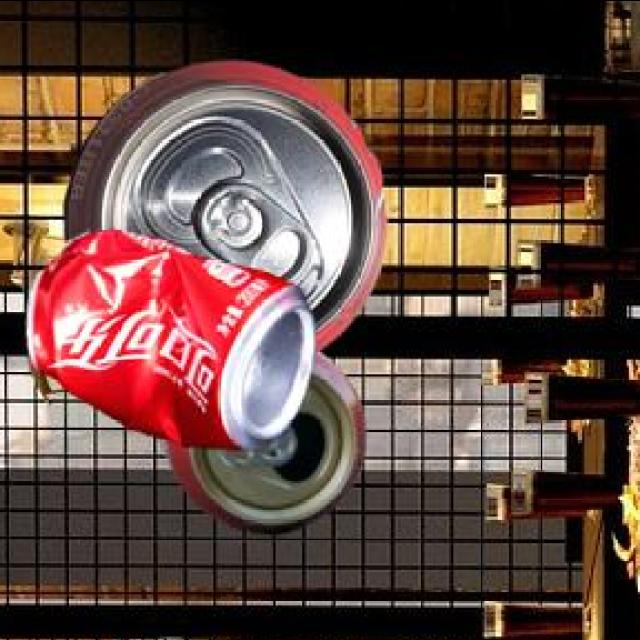logam: (61, 63, 383, 354), (23, 232, 312, 452), (157, 354, 363, 537)
